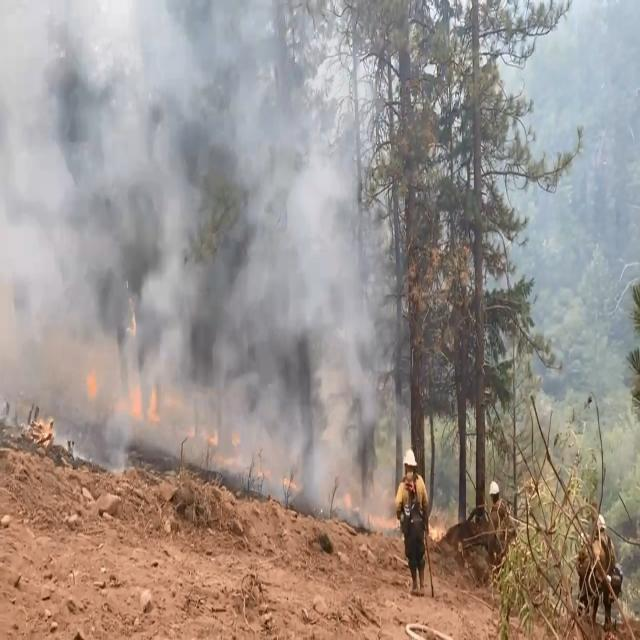Fire: (84, 357, 176, 422)
